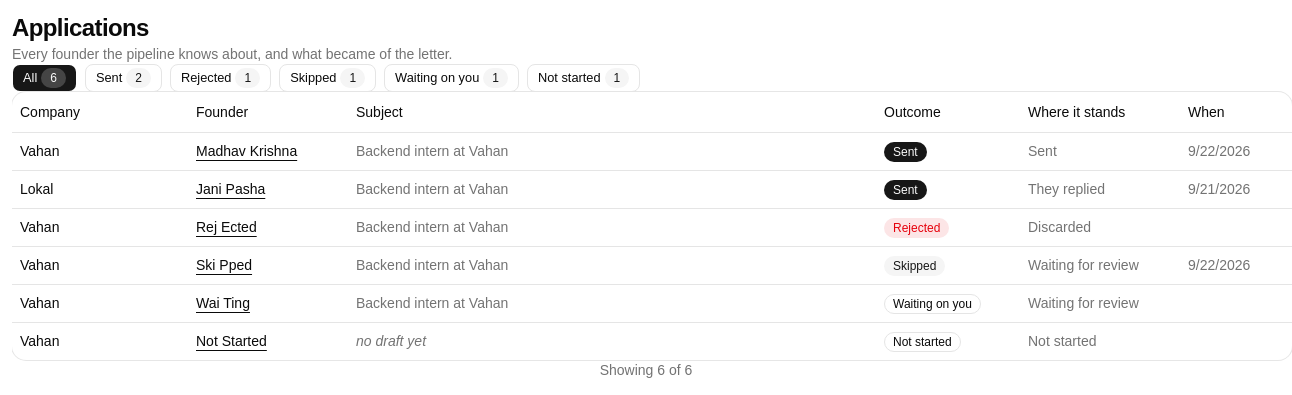
filters to one outcome
Click the button "Rejected 1". click: (220, 78)
box: [170,64,271,92]
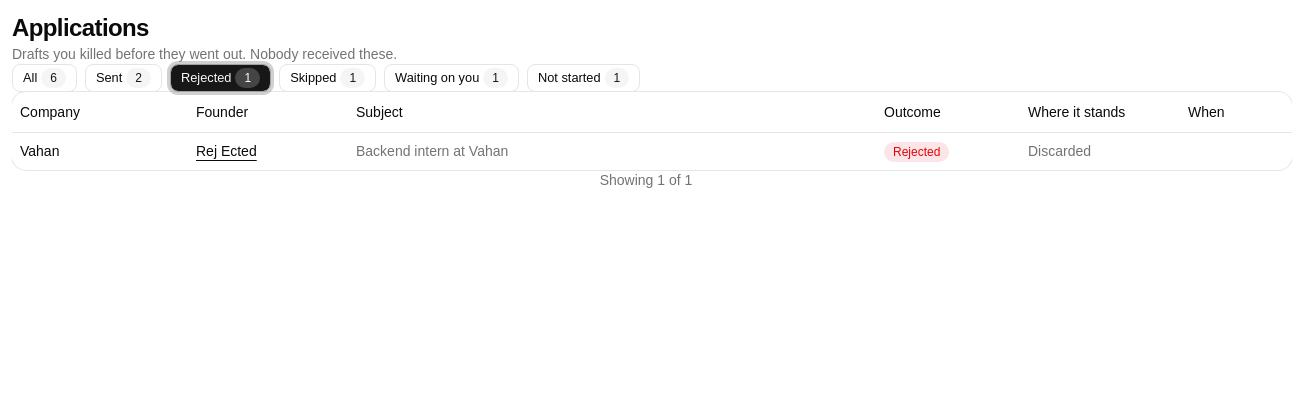
Check: the link "Rej Ected" is shown, box [196,143,257,159]
Check: the link "Wai Ting" is gone
